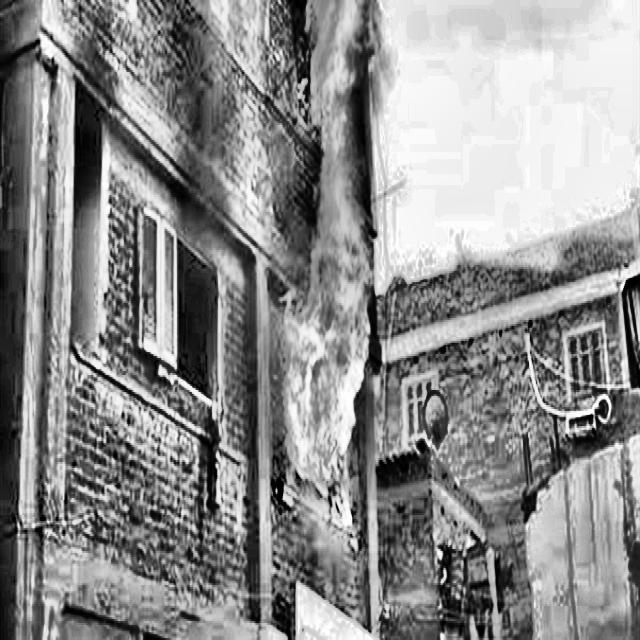fire: (296, 0, 406, 550)
